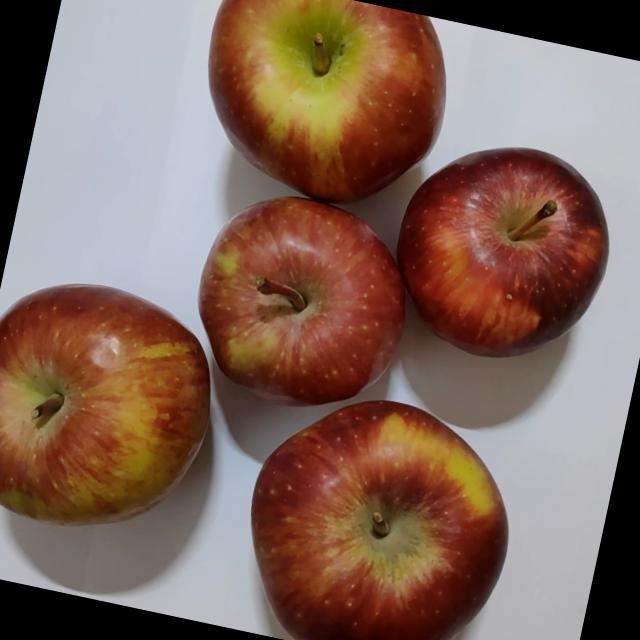apple: (224, 379, 538, 640), (0, 266, 248, 570), (180, 0, 478, 244), (172, 182, 440, 446), (374, 130, 636, 400)
